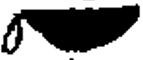Basket: (2, 6, 140, 58)
